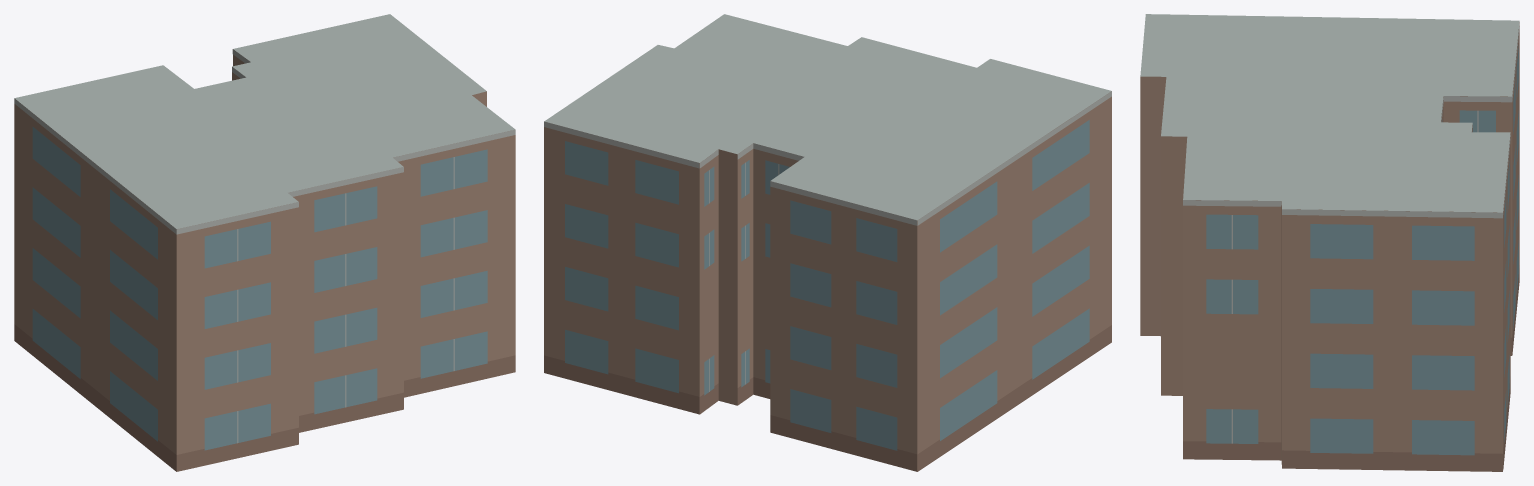
File: survey-upis-33039604.glb
3 views of the same model, side by side, from view 1: azimuth 30°, elevation 25°; view 2: azimuth 150°, elevation 25°; view 3: azimuth 270°, elevation 25° (orthographic). The views are drawn at different scales.
Parts seen in each view (by area): view 1: survey-upis-33039604.tmp; view 2: survey-upis-33039604.tmp; view 3: survey-upis-33039604.tmp.
Boxes of the visible parts, x1=… form: survey-upis-33039604.tmp: x1=14, y1=14, x2=515, y2=471; survey-upis-33039604.tmp: x1=544, y1=14, x2=1111, y2=471; survey-upis-33039604.tmp: x1=1140, y1=14, x2=1519, y2=471.
Size of the model in its own units: 18.07 by 11 by 14.59.
